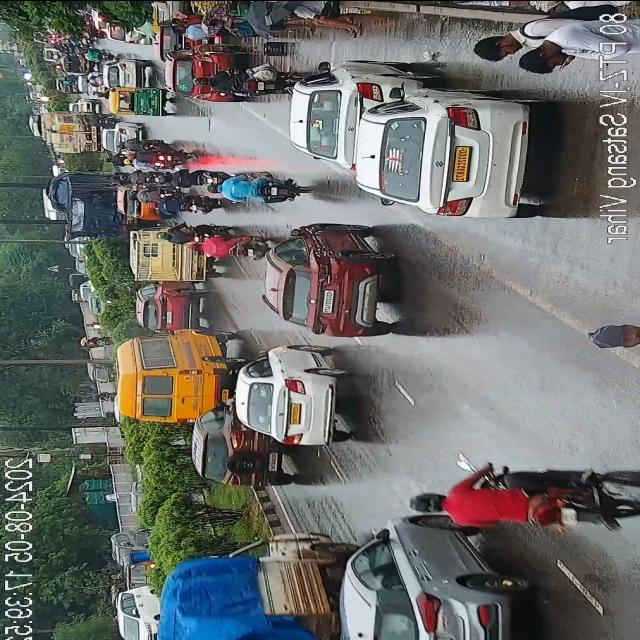2-wheelers: (414, 472, 622, 531), (222, 446, 286, 496), (208, 172, 304, 204), (195, 68, 267, 100), (123, 140, 193, 170), (148, 194, 221, 222), (191, 236, 261, 260), (152, 170, 218, 192)
auto: (125, 226, 215, 274), (108, 82, 166, 118), (81, 350, 120, 380)
bus: (114, 328, 232, 426)
car: (356, 72, 540, 220), (346, 512, 528, 640), (262, 220, 396, 346), (236, 348, 340, 456), (290, 64, 390, 162), (193, 398, 281, 496), (109, 568, 157, 640), (170, 46, 230, 102), (138, 282, 200, 330), (106, 56, 148, 92)
pedestrian: (523, 490, 640, 535), (478, 24, 594, 68), (276, 0, 357, 36), (476, 29, 541, 72), (618, 296, 640, 366), (175, 22, 221, 44), (534, 0, 626, 10)
truck: (142, 526, 378, 640), (55, 175, 128, 243), (42, 108, 100, 158)
